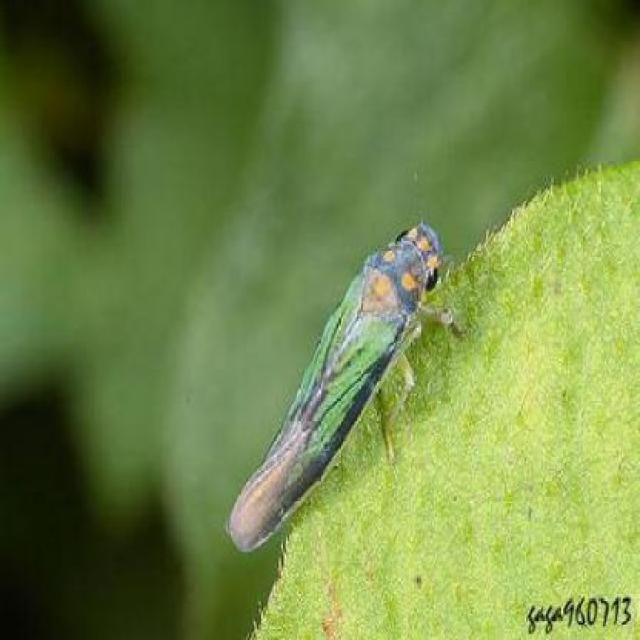green-leafhopper: (228, 218, 452, 556)
